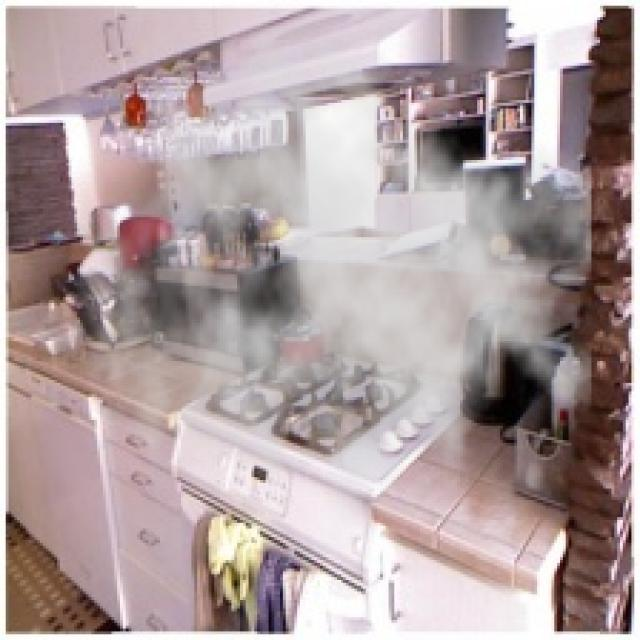smoke: (71, 23, 592, 554)
